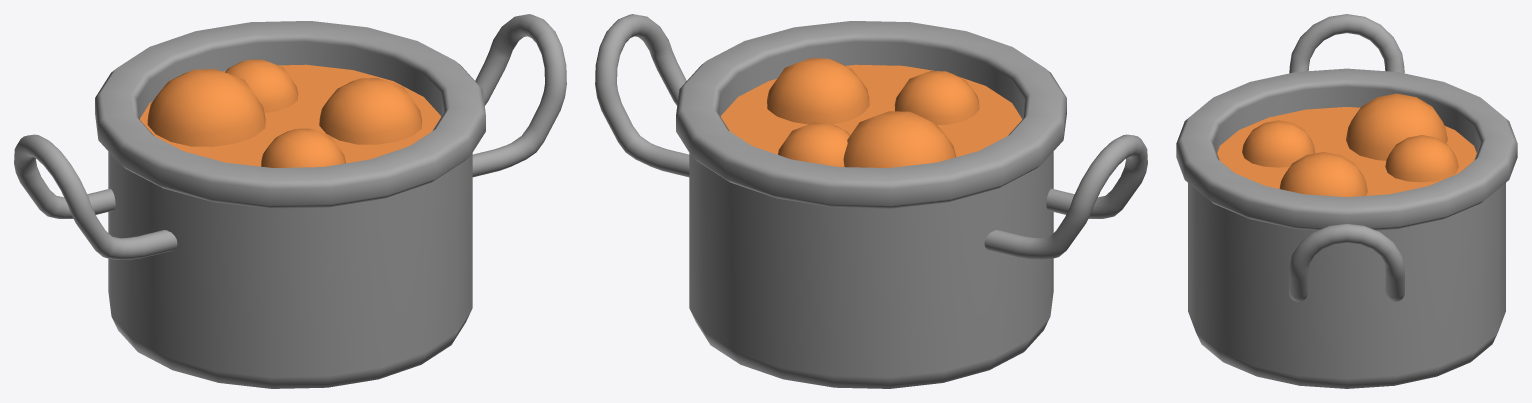
The model's file is Pot_full.glb.
3 views of the same model, side by side, from view 1: azimuth 30°, elevation 25°; view 2: azimuth 150°, elevation 25°; view 3: azimuth 270°, elevation 25° (orthographic). The views are drawn at different scales.
Visible parts, largest first — view 1: Pot_Full_1; view 2: Pot_Full_1; view 3: Pot_Full_1.
Part boxes in pixels (x1,y1,x2,y2): Pot_Full_1: (14,14,566,388); Pot_Full_1: (595,14,1147,388); Pot_Full_1: (1176,14,1517,388).
Size of the model in its own units: 0.6144 by 0.2759 by 0.4066.
Materials: 1 (1 with a texture image).
